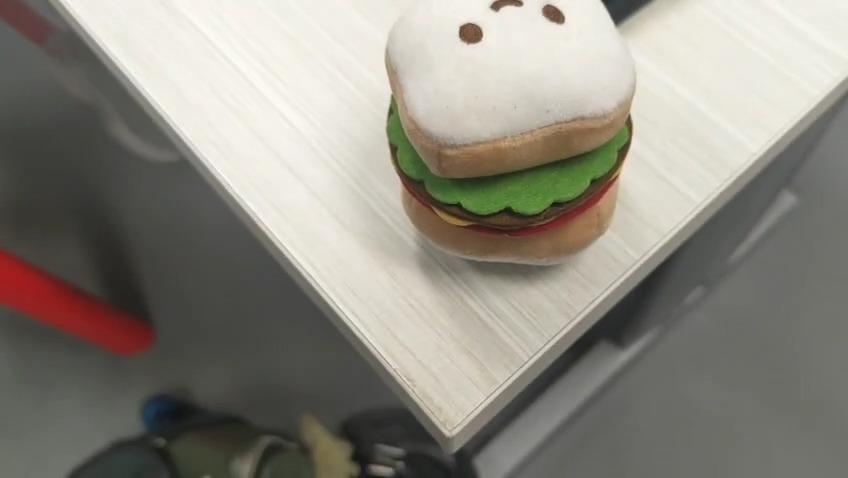objects: (384, 2, 634, 264)
